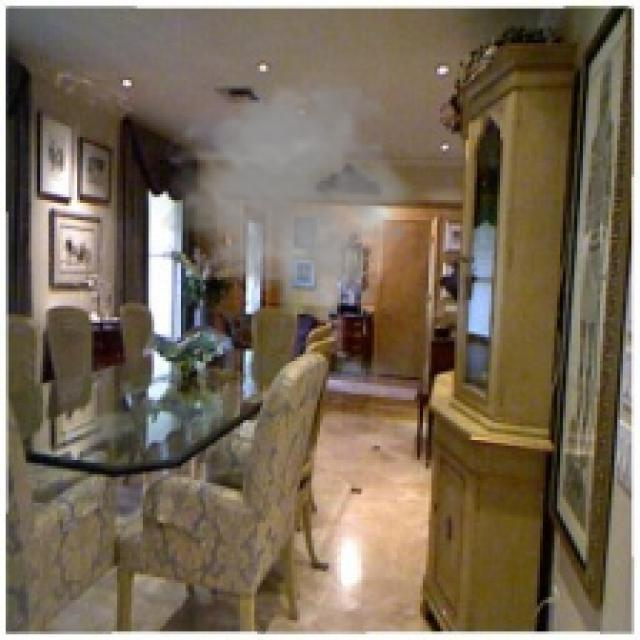smoke: (157, 63, 426, 303)
